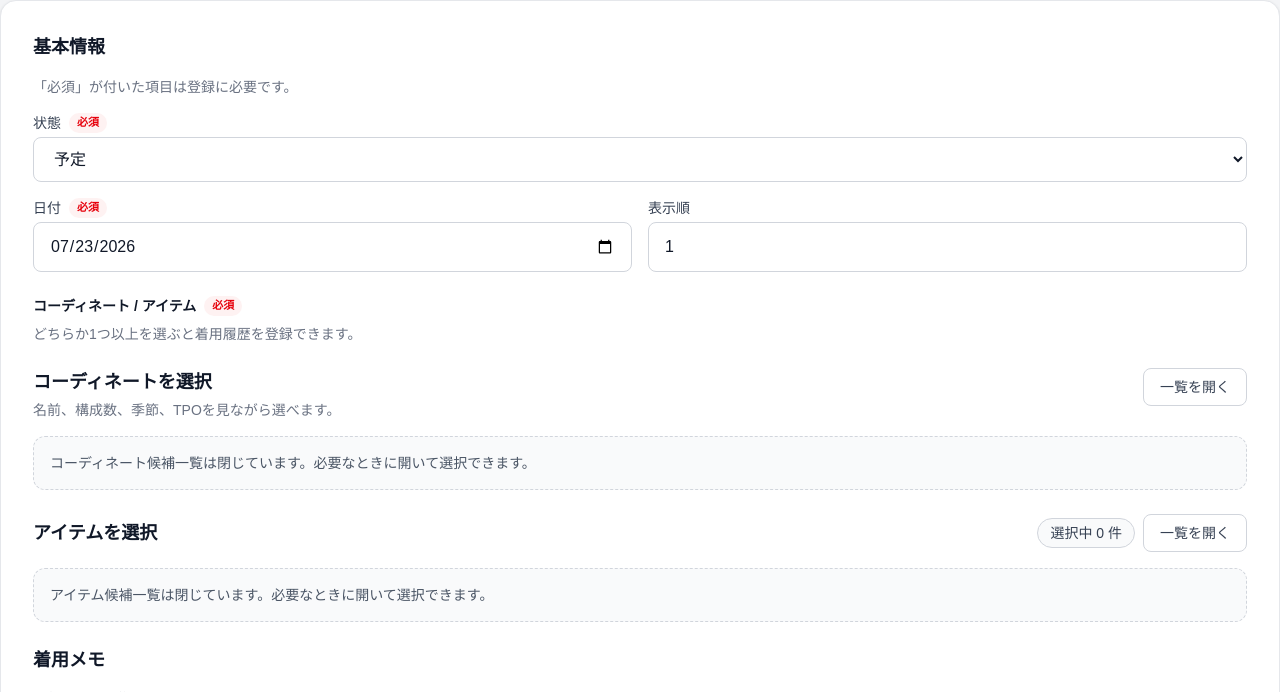
Test: WearLogForm › 作成時の現在の季節絞り込みでもオール指定の候補はコーデ・アイテムともに表示される
The width and height of the screenshot is (1280, 692).
Click the button with test id "wear-log-outfit-list-toggle" at {"x": 1195, "y": 387}, box [1143,368,1247,406]
(page scrolled)
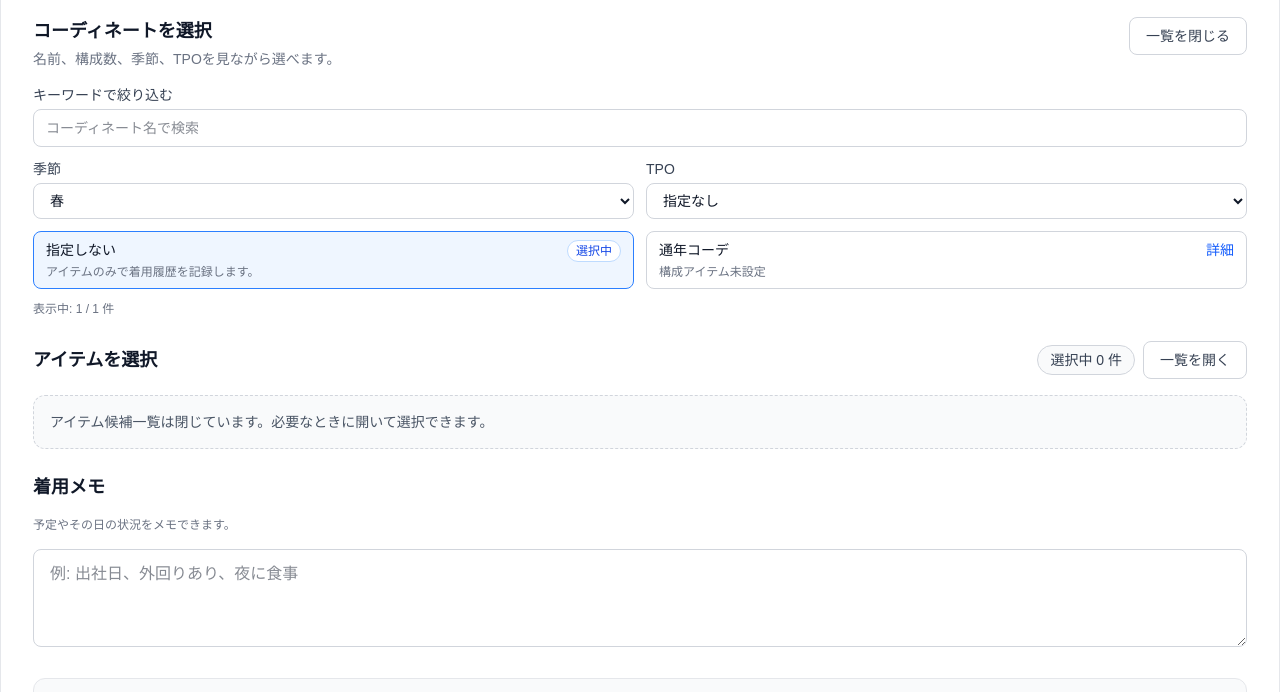
Check: the dropdown with test id "wear-log-outfit-season-filter" shows "春", box [33,183,634,219]
Check: the text "通年コーデ" is shown, box [659,240,729,260]
Click the button with test id "wear-log-item-list-toggle" at {"x": 1195, "y": 360}, box [1143,341,1247,379]
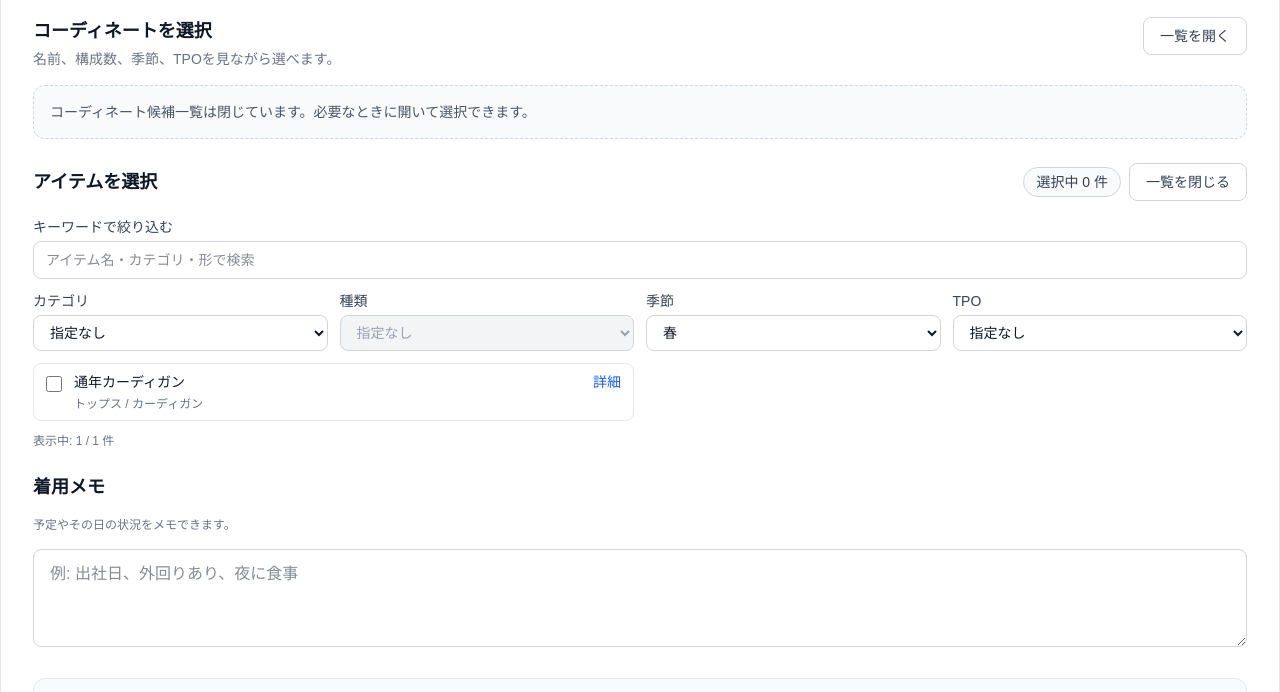
Check: the dropdown with test id "wear-log-item-season-filter" shows "春", box [646,315,940,351]
Check: the text "通年カーディガン" is shown, box [74,372,185,392]
